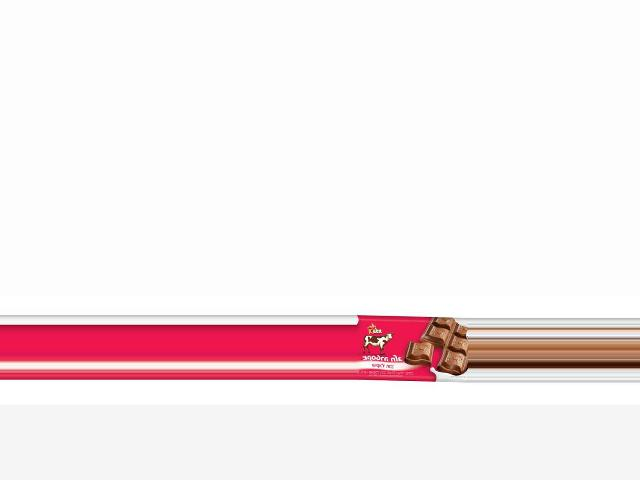chocolate: (355, 316, 466, 381)
